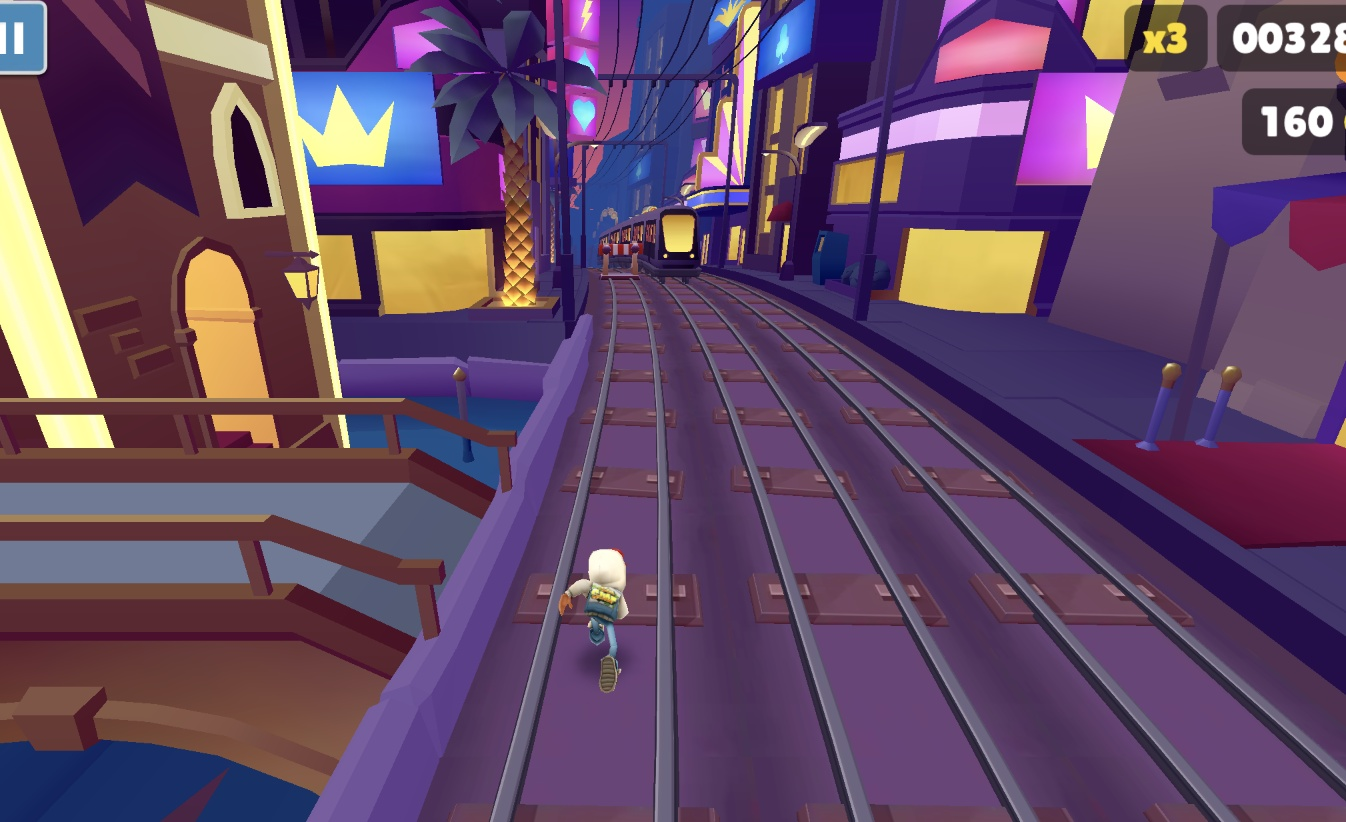ground_barrier: (596, 237, 640, 278)
train: (637, 206, 703, 279)
